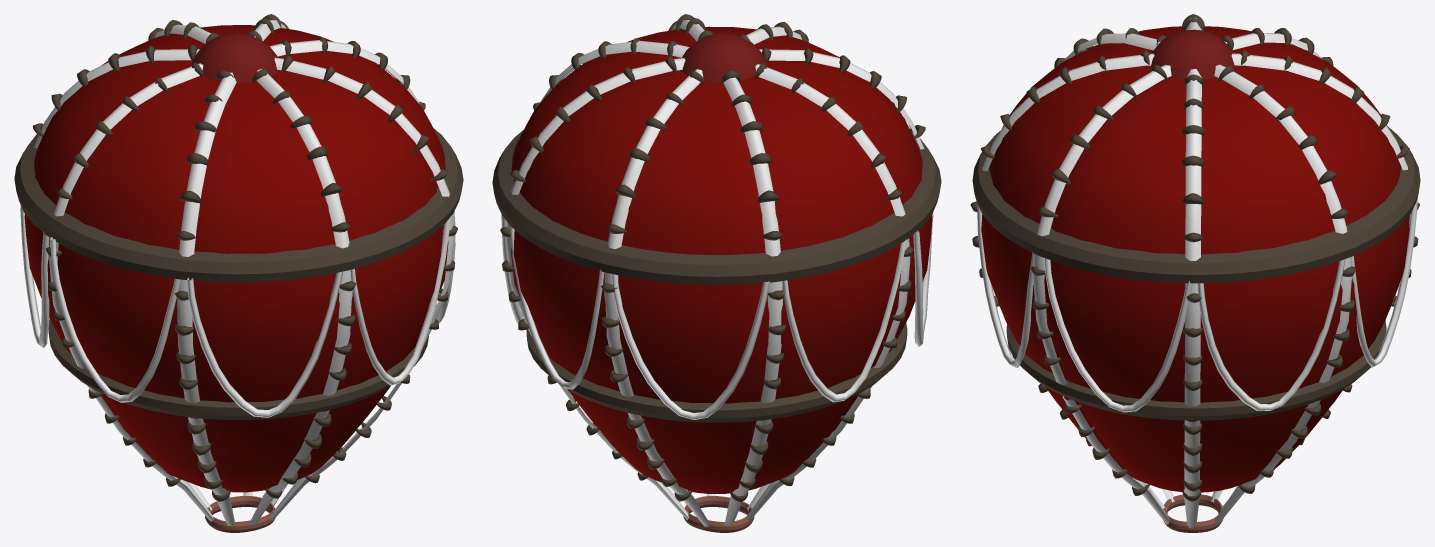
File: Big_Balloon.fbx
3 views of the same model, side by side, from view 1: azimuth 30°, elevation 25°; view 2: azimuth 150°, elevation 25°; view 3: azimuth 270°, elevation 25° (orthographic).
Visible parts, largest first — view 1: Line.003, Line.006, BézierCurve.001, BézierCurve, BézierCurve.004, Line.004, Line.005, Line.008, Line.007, Line.009, Line.013, Line.001; view 2: Line.003, Line.006, BézierCurve, BézierCurve.001, BézierCurve.004, Line.004, Line.005, Line.009, Line.007, Line.008, Line.013, Line.001; view 3: Line.003, Line.006, BézierCurve.001, BézierCurve, BézierCurve.004, Line.004, Line.005, Line.009, Line.013, Line.008, Line.007, Line.001.
Boxes of the visible parts, left/top/right/bottom form: Line.003: left=24, top=25, right=448, bottom=492; Line.006: left=14, top=128, right=463, bottom=282; BézierCurve.001: left=33, top=20, right=454, bottom=526; BézierCurve: left=49, top=24, right=419, bottom=525; BézierCurve.004: left=20, top=205, right=455, bottom=417; Line.004: left=48, top=319, right=428, bottom=420; Line.005: left=192, top=33, right=278, bottom=83; Line.008: left=175, top=14, right=288, bottom=501; Line.007: left=148, top=20, right=356, bottom=498; Line.009: left=33, top=44, right=457, bottom=483; Line.013: left=46, top=37, right=425, bottom=486; Line.001: left=205, top=496, right=275, bottom=532; Line.003: left=511, top=26, right=932, bottom=493; Line.006: left=492, top=130, right=941, bottom=285; BézierCurve: left=540, top=26, right=910, bottom=526; BézierCurve.001: left=505, top=20, right=924, bottom=526; BézierCurve.004: left=501, top=212, right=933, bottom=419; Line.004: left=526, top=323, right=907, bottom=422; Line.005: left=680, top=33, right=767, bottom=82; Line.009: left=668, top=14, right=785, bottom=502; Line.007: left=601, top=22, right=808, bottom=501; Line.008: left=500, top=47, right=933, bottom=480; Line.013: left=533, top=38, right=913, bottom=486; Line.001: left=683, top=496, right=754, bottom=532; Line.003: left=981, top=26, right=1409, bottom=492; Line.006: left=972, top=126, right=1420, bottom=283; BézierCurve.001: left=1033, top=33, right=1351, bottom=524; BézierCurve: left=982, top=18, right=1407, bottom=528; BézierCurve.004: left=977, top=197, right=1417, bottom=412; Line.004: left=1006, top=320, right=1386, bottom=420; Line.005: left=1150, top=29, right=1235, bottom=79; Line.009: left=1031, top=28, right=1333, bottom=495; Line.013: left=1181, top=14, right=1204, bottom=501; Line.008: left=1054, top=28, right=1355, bottom=493; Line.007: left=970, top=49, right=1419, bottom=469; Line.001: left=1163, top=494, right=1223, bottom=532.
Size of the model in its own units: 3068 by 3618 by 3060.
